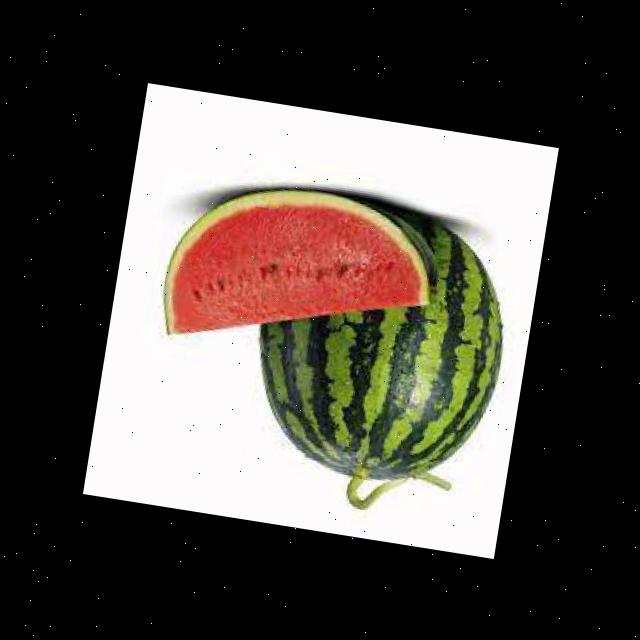watermelon: (235, 186, 524, 499), (150, 164, 452, 376)
